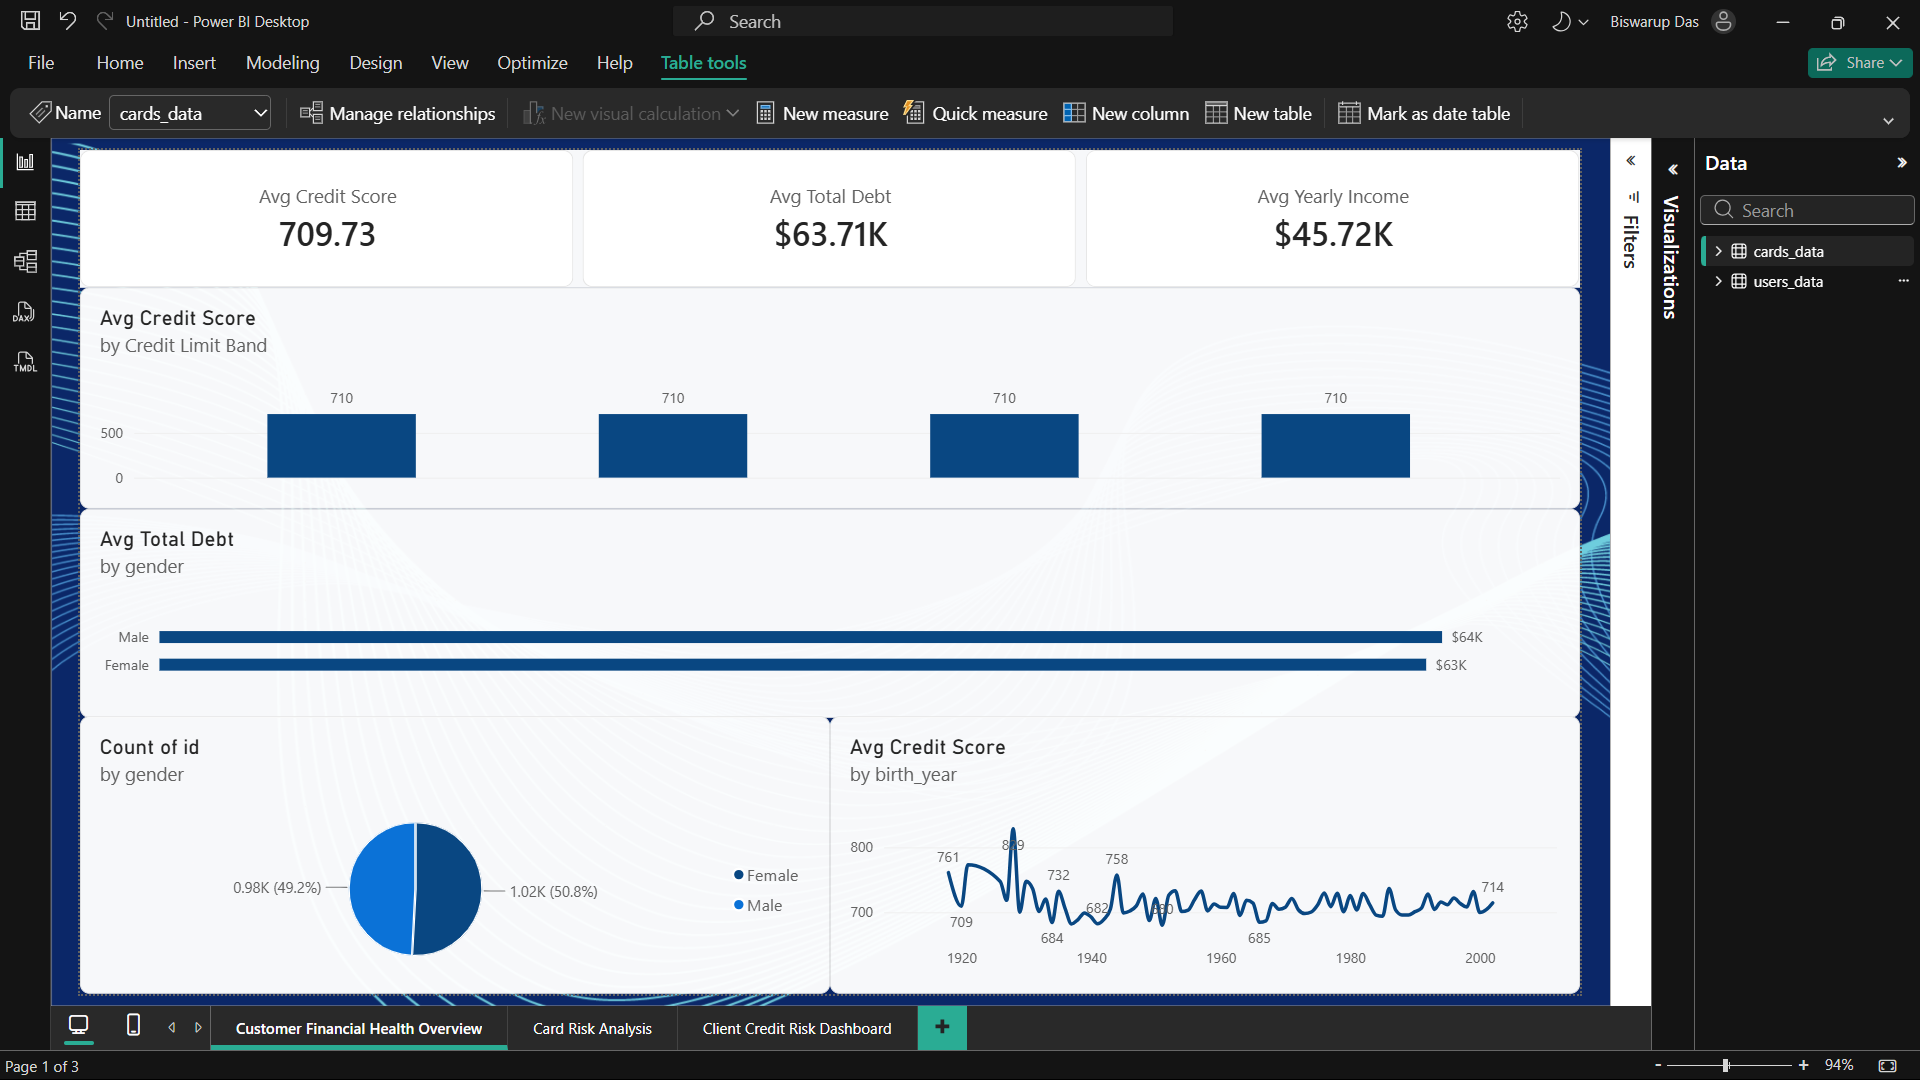

This screenshot's page, from the dashboard's own definition file:
{"tool":"powerbi","page":{"name":"Customer Financial Health Overview","canvas":[1280,720],"ordinal":0},"visuals":[{"type":"cardVisual","fields":{"Data":["users_data.Avg Credit Score","users_data.Avg Total Debt","users_data.Avg Yearly Income"]},"box":[0,0,1280,117.3],"z":0},{"type":"clusteredColumnChart","fields":{"Category":["cards_data.Credit Limit Band"],"Y":["users_data.Avg Credit Score"]},"box":[0,117.3,1280,188.4],"z":1000},{"type":"clusteredBarChart","fields":{"Category":["users_data.gender"],"Y":["users_data.Avg Total Debt"]},"box":[0,306.1,1280,178.1],"z":2000},{"type":"pieChart","fields":{"Category":["users_data.gender"],"Y":["Count(users_data.id)"]},"box":[0,483.6,640,237],"z":3000},{"type":"lineChart","fields":{"Category":["users_data.birth_year"],"Y":["users_data.Avg Credit Score"]},"box":[640,483.6,640,237],"z":4000}]}

Visuals, with their boxes on the page's 1280x720 design canvas (x1, y1, x2, y2). These are canvas units, not pixel positions in the 1920x1080 screenshot, which may show the page scaled, cropped or inside an application window:
cardVisual - users_data.Avg Credit Score x users_data.Avg Total Debt: (0,0,1280,117)
clusteredColumnChart - cards_data.Credit Limit Band x users_data.Avg Credit Score: (0,117,1280,306)
clusteredBarChart - users_data.gender x users_data.Avg Total Debt: (0,306,1280,484)
pieChart - users_data.gender x Count(users_data.id): (0,484,640,721)
lineChart - users_data.birth_year x users_data.Avg Credit Score: (640,484,1280,721)
